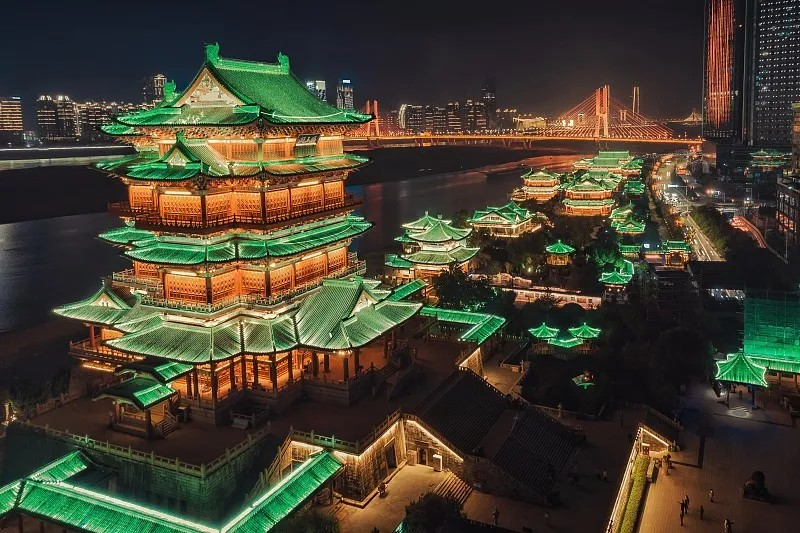Teng: (50, 42, 423, 424)
